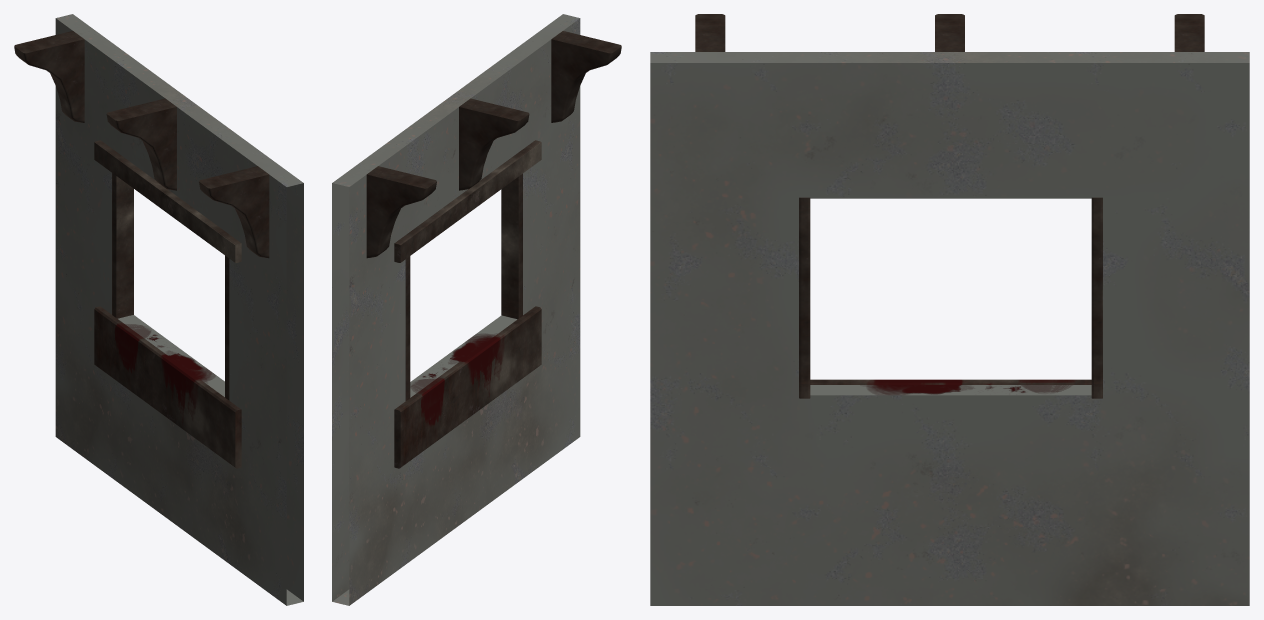
The model's file is Wall_Window_Support.fbx.
3 views of the same model, side by side, from view 1: azimuth 30°, elevation 25°; view 2: azimuth 150°, elevation 25°; view 3: azimuth 270°, elevation 25° (orthographic). The views are drawn at different scales.
Visible parts, largest first — view 1: Wall_Window_Support; view 2: Wall_Window_Support; view 3: Wall_Window_Support.
Boxes of the visible parts, <box> form: Wall_Window_Support: <box>14,14,303,605</box>; Wall_Window_Support: <box>332,14,621,605</box>; Wall_Window_Support: <box>650,14,1249,605</box>.
Bounding box in the file's own units: 38.88 × 200 × 200.
